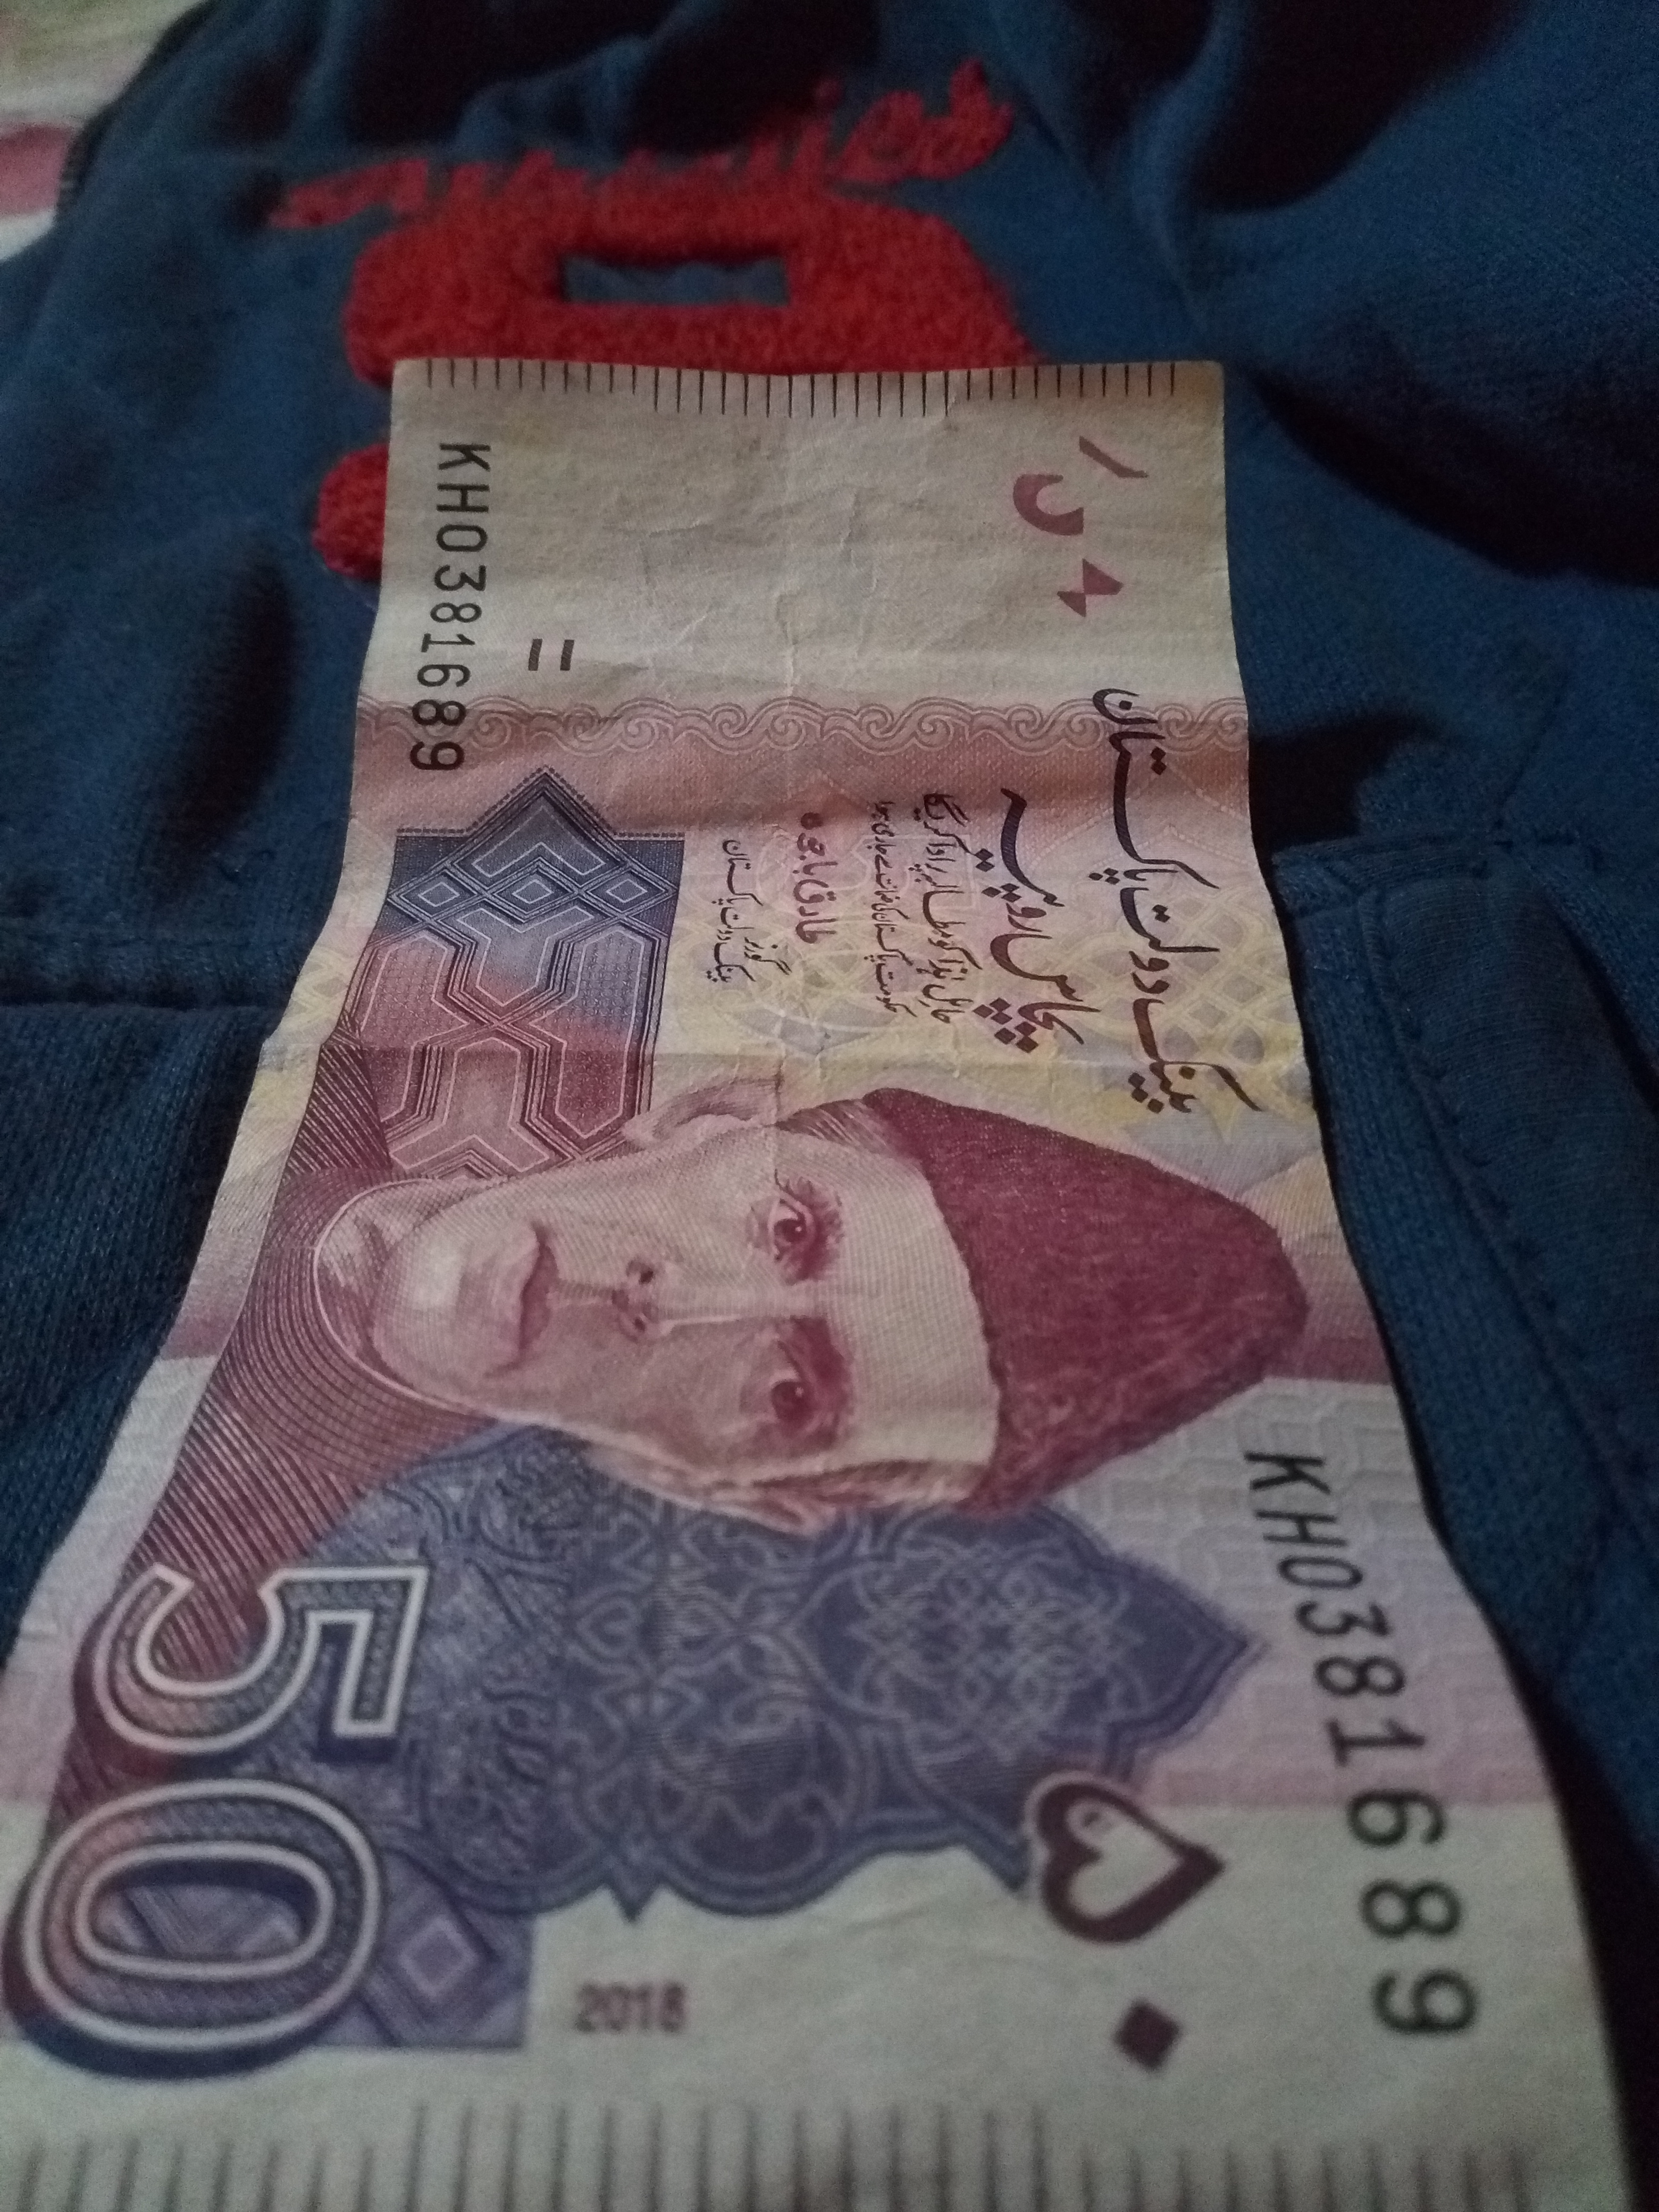50 rupee: (38, 254, 1582, 2212)
